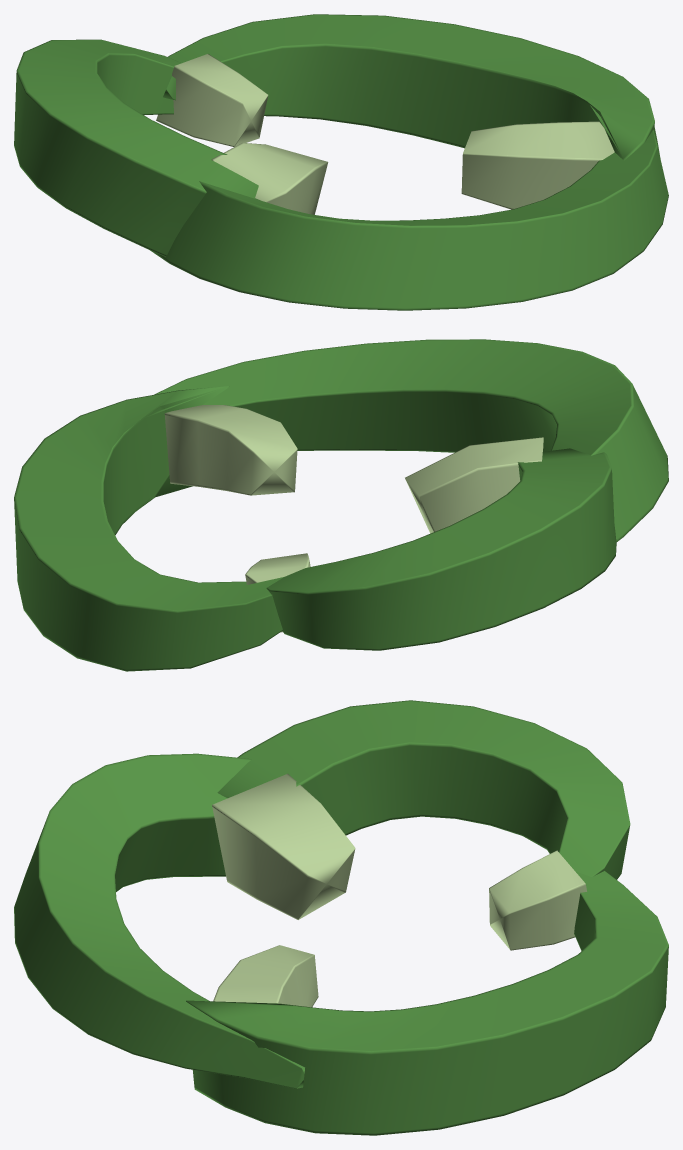
The model's file is pepper_green_slice.glb.
3 renders of one model, top to bottom at view 1: azimuth 30°, elevation 25°; view 2: azimuth 150°, elevation 25°; view 3: azimuth 270°, elevation 25°, orthographic.
Visible parts, largest first — view 1: LODGroup_13, LODGroup_11, LODGroup_17, LODGroup_7, LODGroup_9, LODGroup_15; view 2: LODGroup_13, LODGroup_11, LODGroup_17, LODGroup_7, LODGroup_15, LODGroup_9; view 3: LODGroup_11, LODGroup_13, LODGroup_17, LODGroup_15, LODGroup_9, LODGroup_7.
Boxes of the visible parts, box(x1,y1,x2,y2) form: LODGroup_13: box(150, 128, 668, 310); LODGroup_11: box(163, 14, 654, 160); LODGroup_17: box(14, 39, 258, 256); LODGroup_7: box(461, 121, 614, 209); LODGroup_9: box(156, 54, 268, 146); LODGroup_15: box(211, 143, 328, 214); LODGroup_13: box(154, 339, 668, 541); LODGroup_11: box(14, 386, 283, 671); LODGroup_17: box(266, 448, 616, 650); LODGroup_7: box(164, 405, 297, 495); LODGroup_15: box(405, 437, 543, 533); LODGroup_9: box(245, 553, 310, 632); LODGroup_11: box(186, 871, 668, 1135); LODGroup_13: box(14, 753, 304, 1088); LODGroup_17: box(217, 700, 630, 879); LODGroup_15: box(212, 773, 355, 919); LODGroup_9: box(489, 850, 586, 950); LODGroup_7: box(213, 945, 318, 1007).
Size of the model in its own units: 0.089 by 0.0256 by 0.0904.
